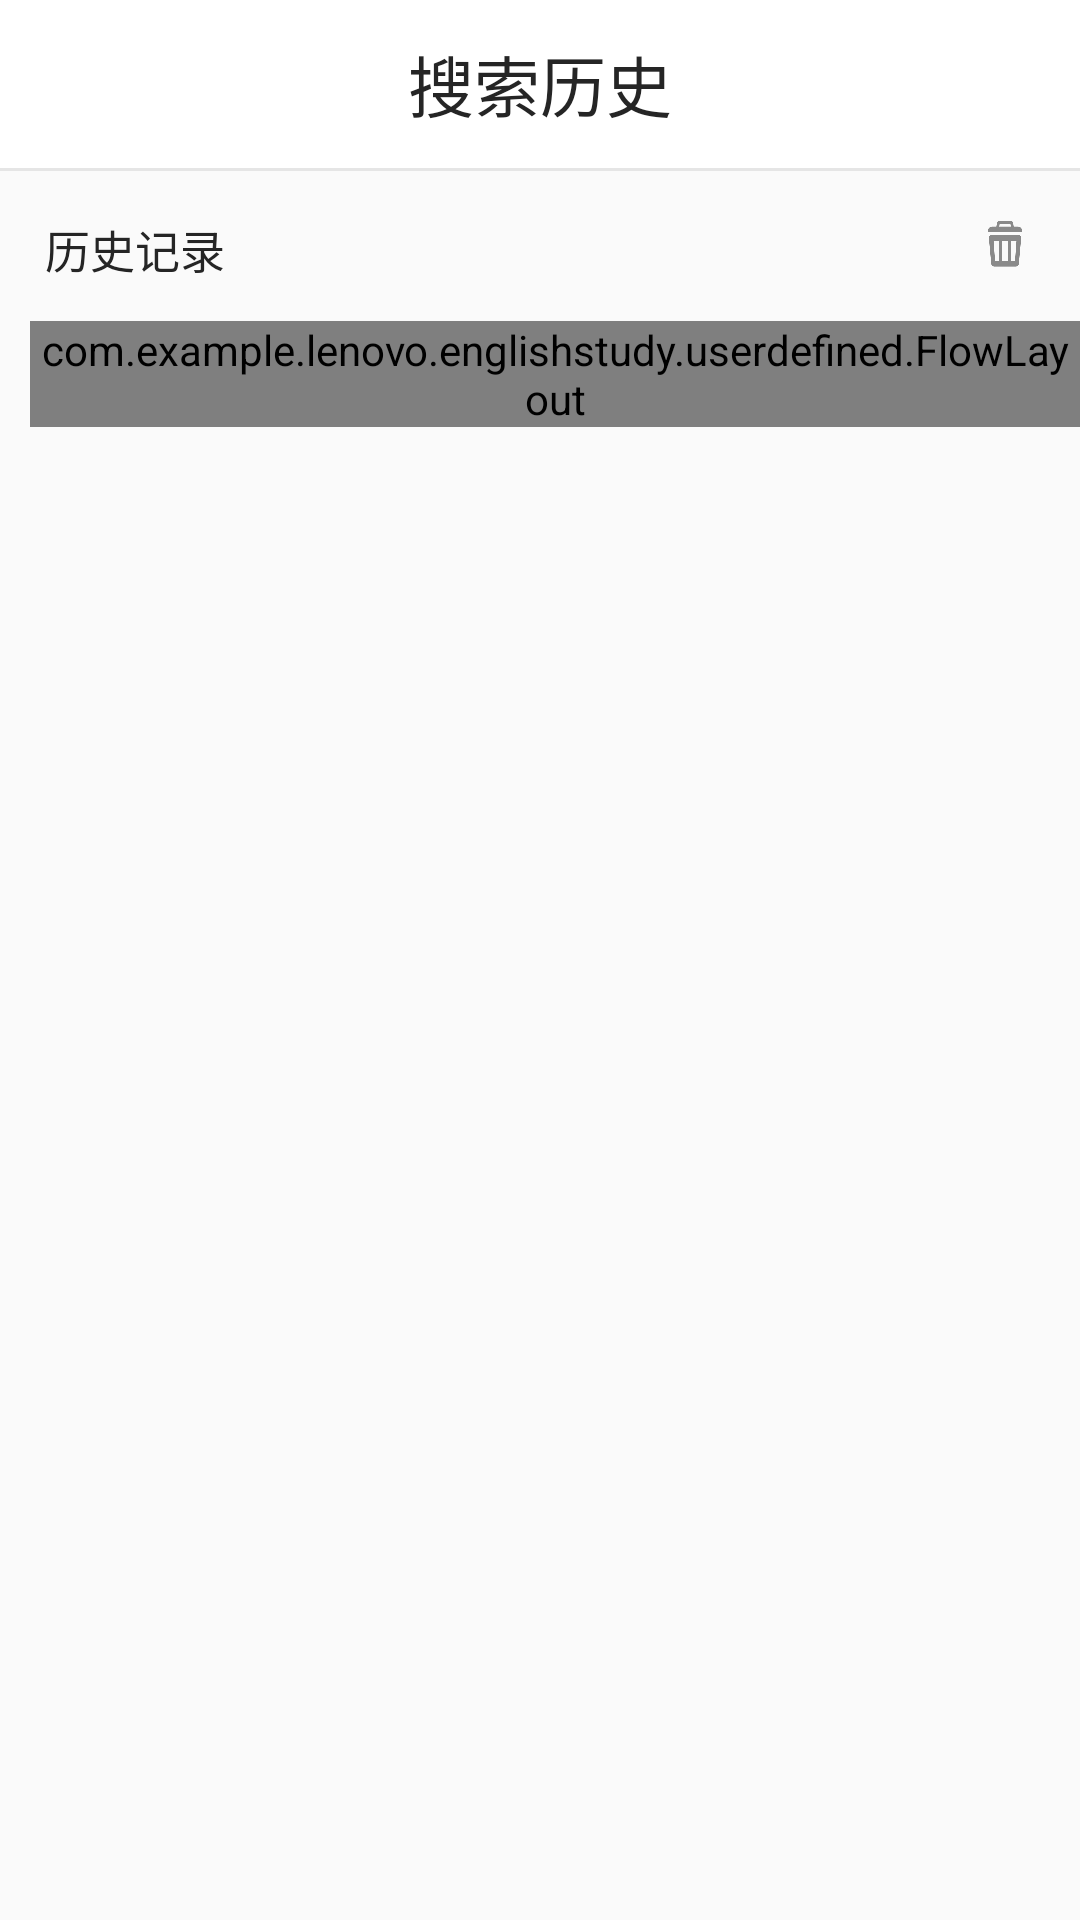

Point at icon controls on the screen. Image size 1080x1920, points as [x,y].
delete: [1005,244]
